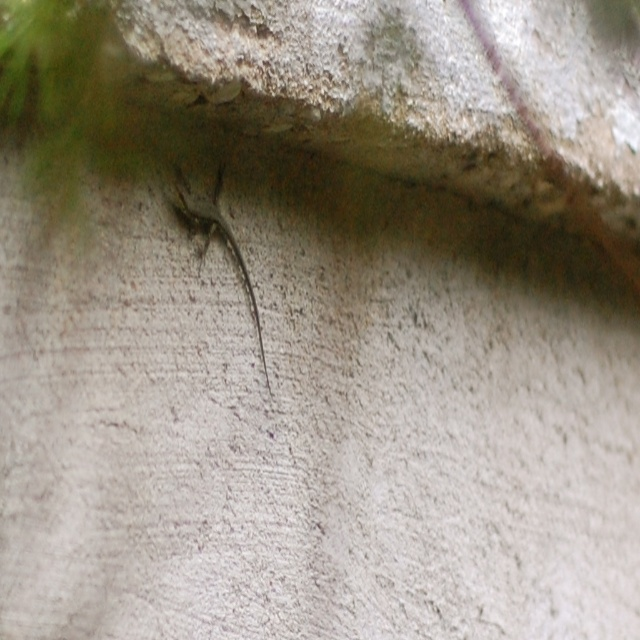Lizard: (158, 140, 274, 390)
